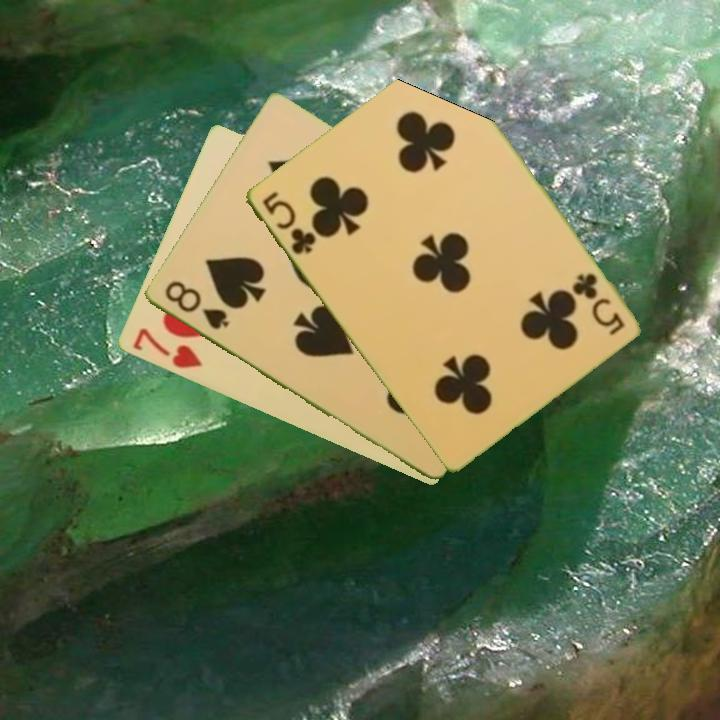5c: (258, 188, 319, 258), (569, 269, 627, 339)
7h: (129, 324, 205, 372)
8s: (160, 277, 232, 333)
